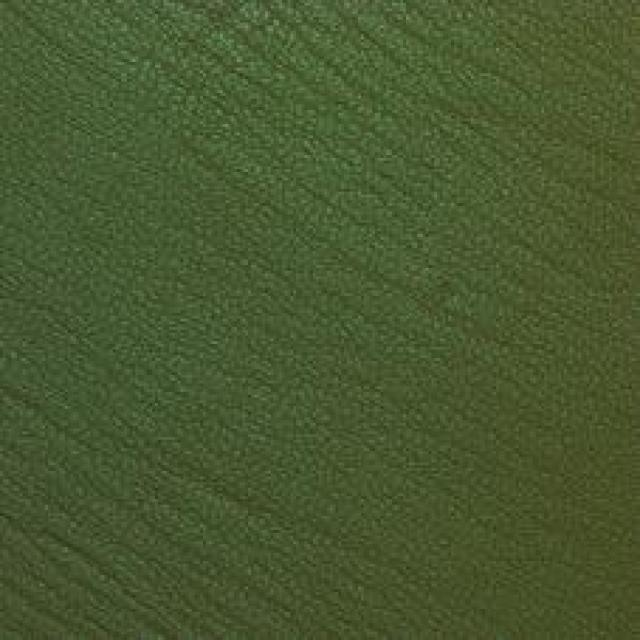Growth Marks: (186, 11, 479, 136), (24, 502, 218, 622)
